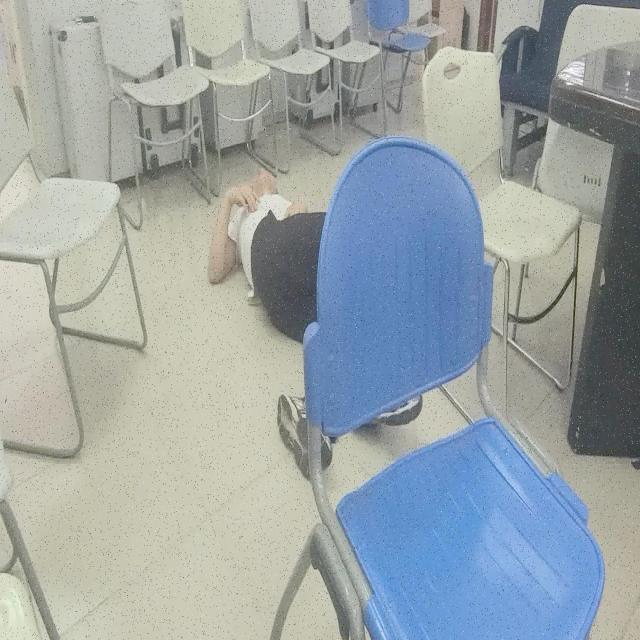fall: (205, 164, 422, 478)
